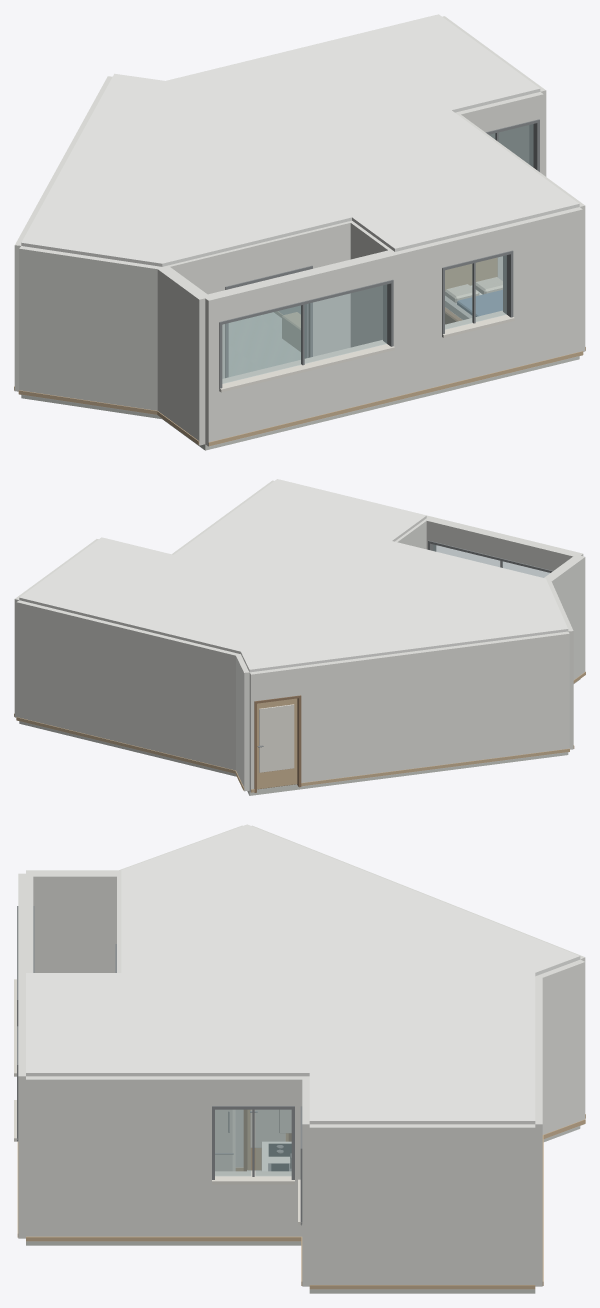
The model's file is two-08.glb.
3 renders of one model, top to bottom at view 1: azimuth 30°, elevation 25°; view 2: azimuth 150°, elevation 25°; view 3: azimuth 270°, elevation 25°, orthographic. The views are drawn at different scales.
Visible parts, largest first — view 1: ceiling_ceiling, architecture_wall, frames_glass, frames_metal, door_glass, frames_ivory, floor_livingfloor, trim_oak, slab_edge, furniture_oak, furniture_blue, furniture_fabric; view 2: architecture_wall, ceiling_ceiling, door_ivory, trim_oak, slab_edge, door_oak, frames_walnut, frames_glass, frames_metal; view 3: ceiling_ceiling, architecture_wall, frames_glass, trim_oak, slab_edge, frames_metal, frames_ivory, furniture_ivory, door_ivory.
Boxes of the visible parts, x1,y1,x2,y2 form: ceiling_ceiling: [21, 14, 579, 266]; architecture_wall: [14, 16, 585, 446]; frames_glass: [222, 124, 533, 383]; frames_metal: [219, 119, 539, 391]; door_glass: [229, 306, 300, 376]; frames_ivory: [219, 310, 514, 392]; floor_livingfloor: [229, 312, 300, 376]; trim_oak: [14, 311, 585, 446]; slab_edge: [21, 356, 579, 450]; furniture_oak: [282, 257, 497, 351]; furniture_blue: [457, 290, 502, 316]; furniture_fabric: [445, 277, 502, 303]; architecture_wall: [14, 480, 585, 792]; ceiling_ceiling: [19, 479, 568, 672]; door_ivory: [259, 704, 294, 772]; trim_oak: [14, 671, 585, 792]; slab_edge: [19, 679, 580, 795]; door_oak: [257, 698, 297, 789]; frames_walnut: [254, 695, 301, 792]; frames_glass: [433, 544, 549, 577]; frames_metal: [428, 540, 552, 572]; ceiling_ceiling: [26, 824, 580, 1124]; architecture_wall: [18, 825, 585, 1289]; frames_glass: [215, 1110, 291, 1175]; trim_oak: [17, 1114, 585, 1289]; slab_edge: [26, 1126, 580, 1293]; frames_metal: [17, 906, 302, 1225]; frames_ivory: [14, 979, 302, 1225]; furniture_ivory: [215, 1109, 291, 1171]; door_ivory: [250, 1109, 285, 1147].
Bounding box in the file's own units: 11.01 × 2.93 × 8.79.
Materials: 20 (4 with a texture image).
